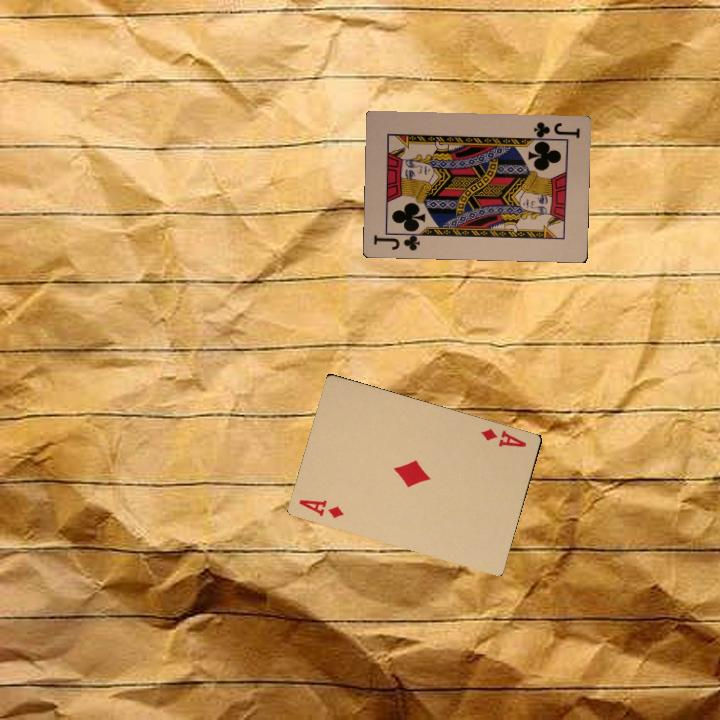Ad: (478, 424, 529, 450), (295, 495, 346, 521)
Jc: (528, 118, 582, 144), (369, 228, 424, 253)
